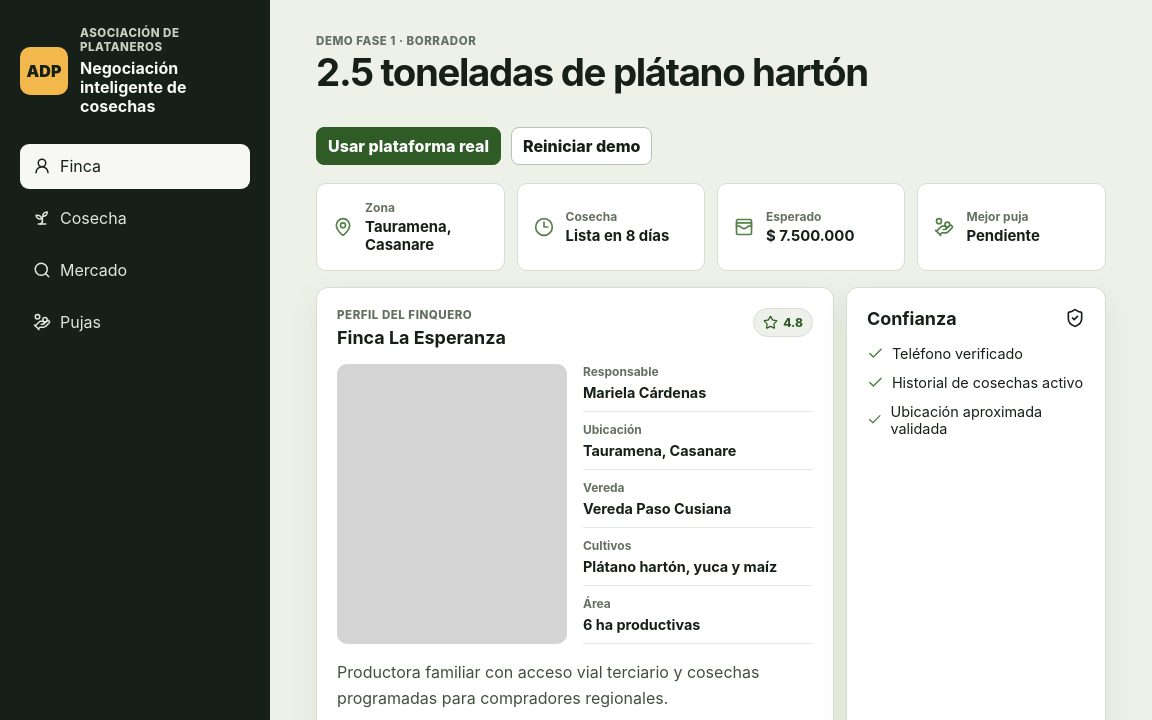
demo navegable de Fase 1 › mantiene mercado y pujas en espera antes de publicar
Click the button "Mercado".
click(135, 270)  # box [20, 248, 250, 293]
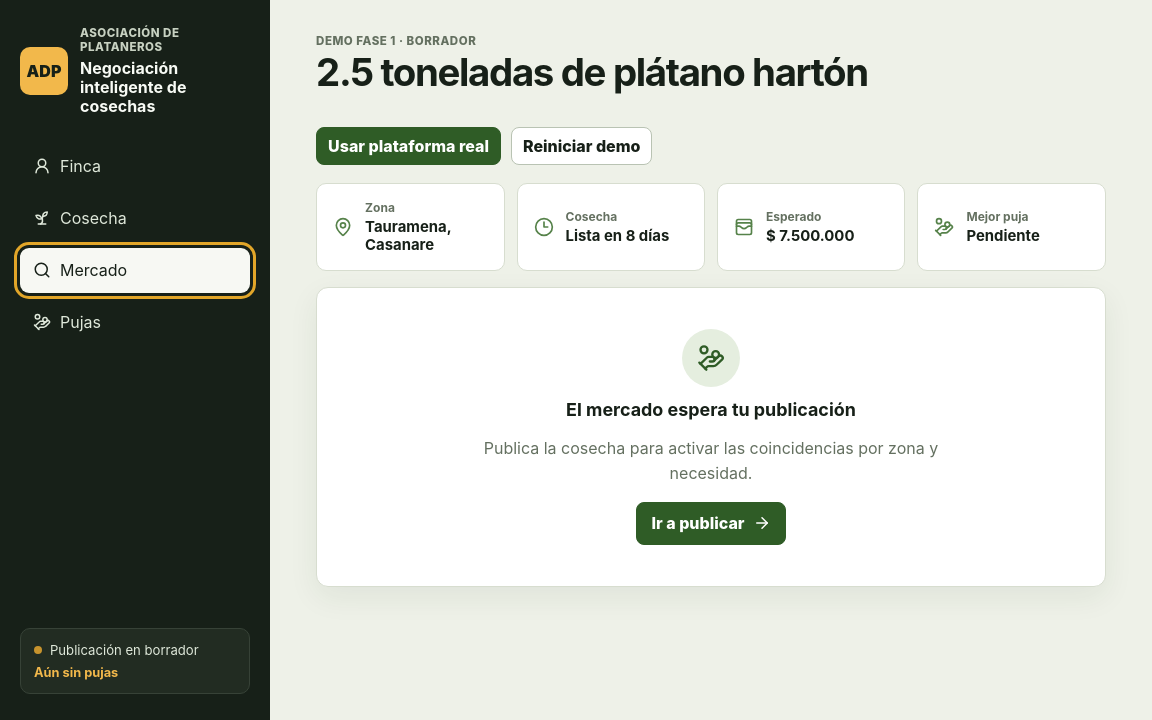
Check: the heading "El mercado espera tu publicación" is shown, box [566, 399, 856, 420]
Click the button "Pujas".
click(135, 322)  # box [20, 300, 250, 345]
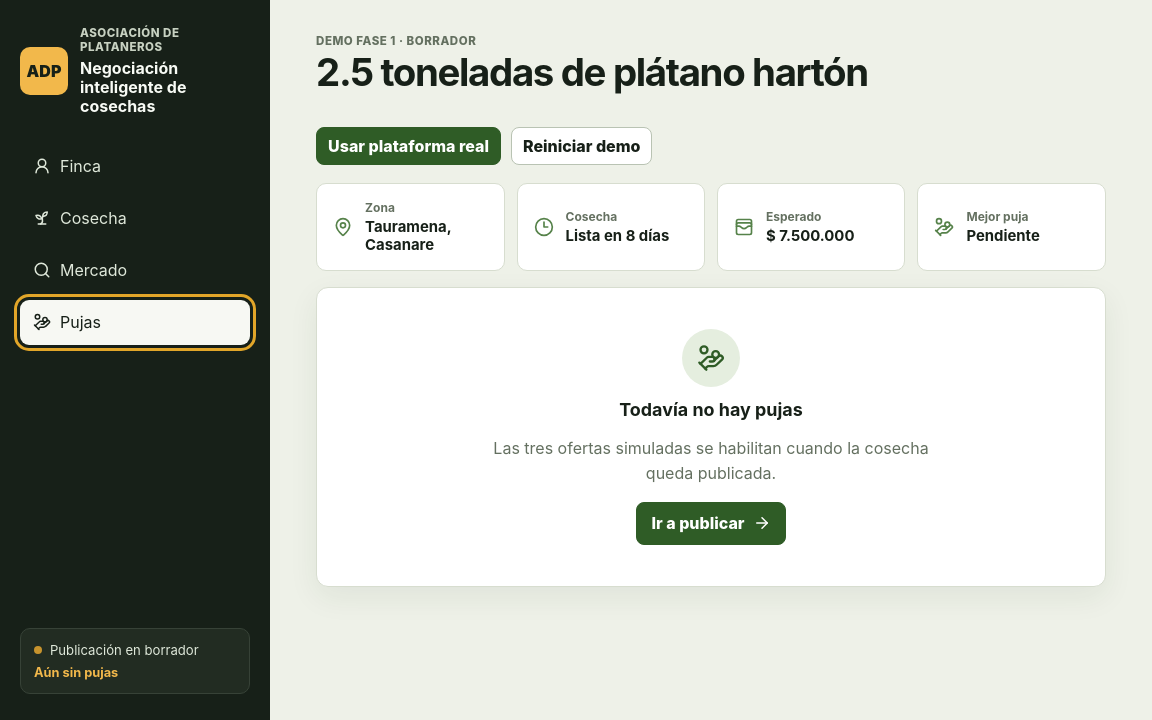
Check: the heading "Todavía no hay pujas" is shown, box [619, 399, 803, 420]
